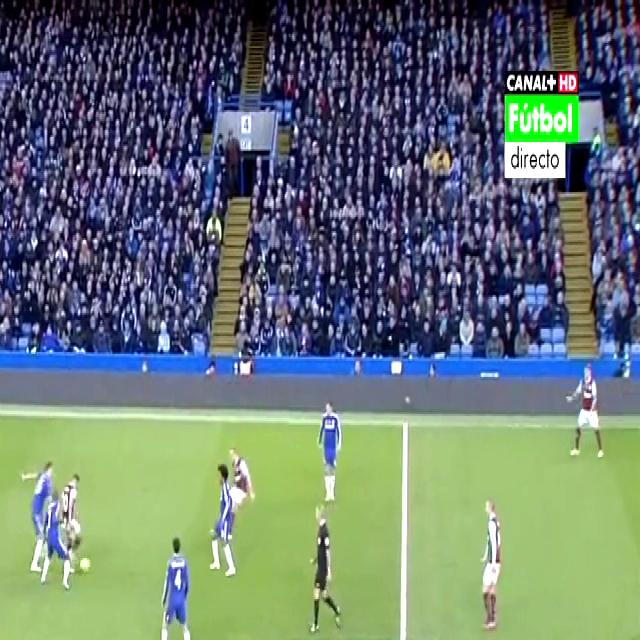ball: (74, 546, 92, 583)
referee: (306, 501, 347, 640)
soccer-player: (206, 450, 251, 586), (566, 356, 614, 474), (472, 490, 509, 640), (21, 449, 62, 583), (156, 524, 203, 640), (316, 391, 349, 510), (224, 434, 261, 521), (58, 461, 88, 568)
